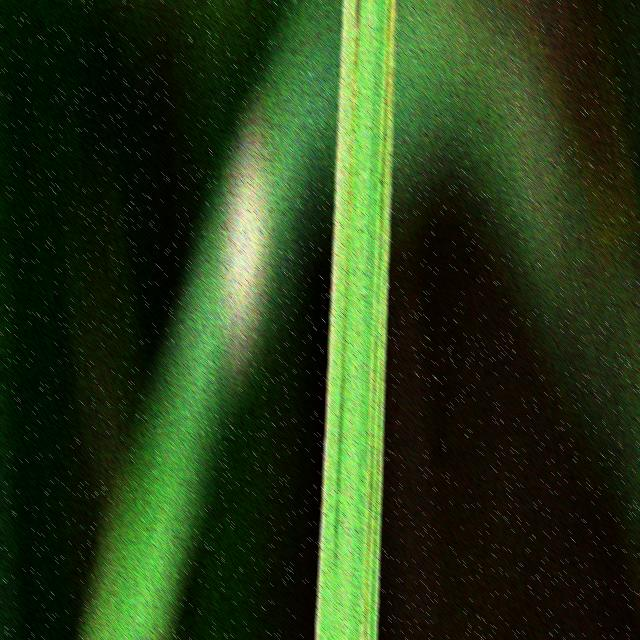BLS: (363, 0, 392, 640), (370, 0, 396, 640), (332, 0, 360, 588)
